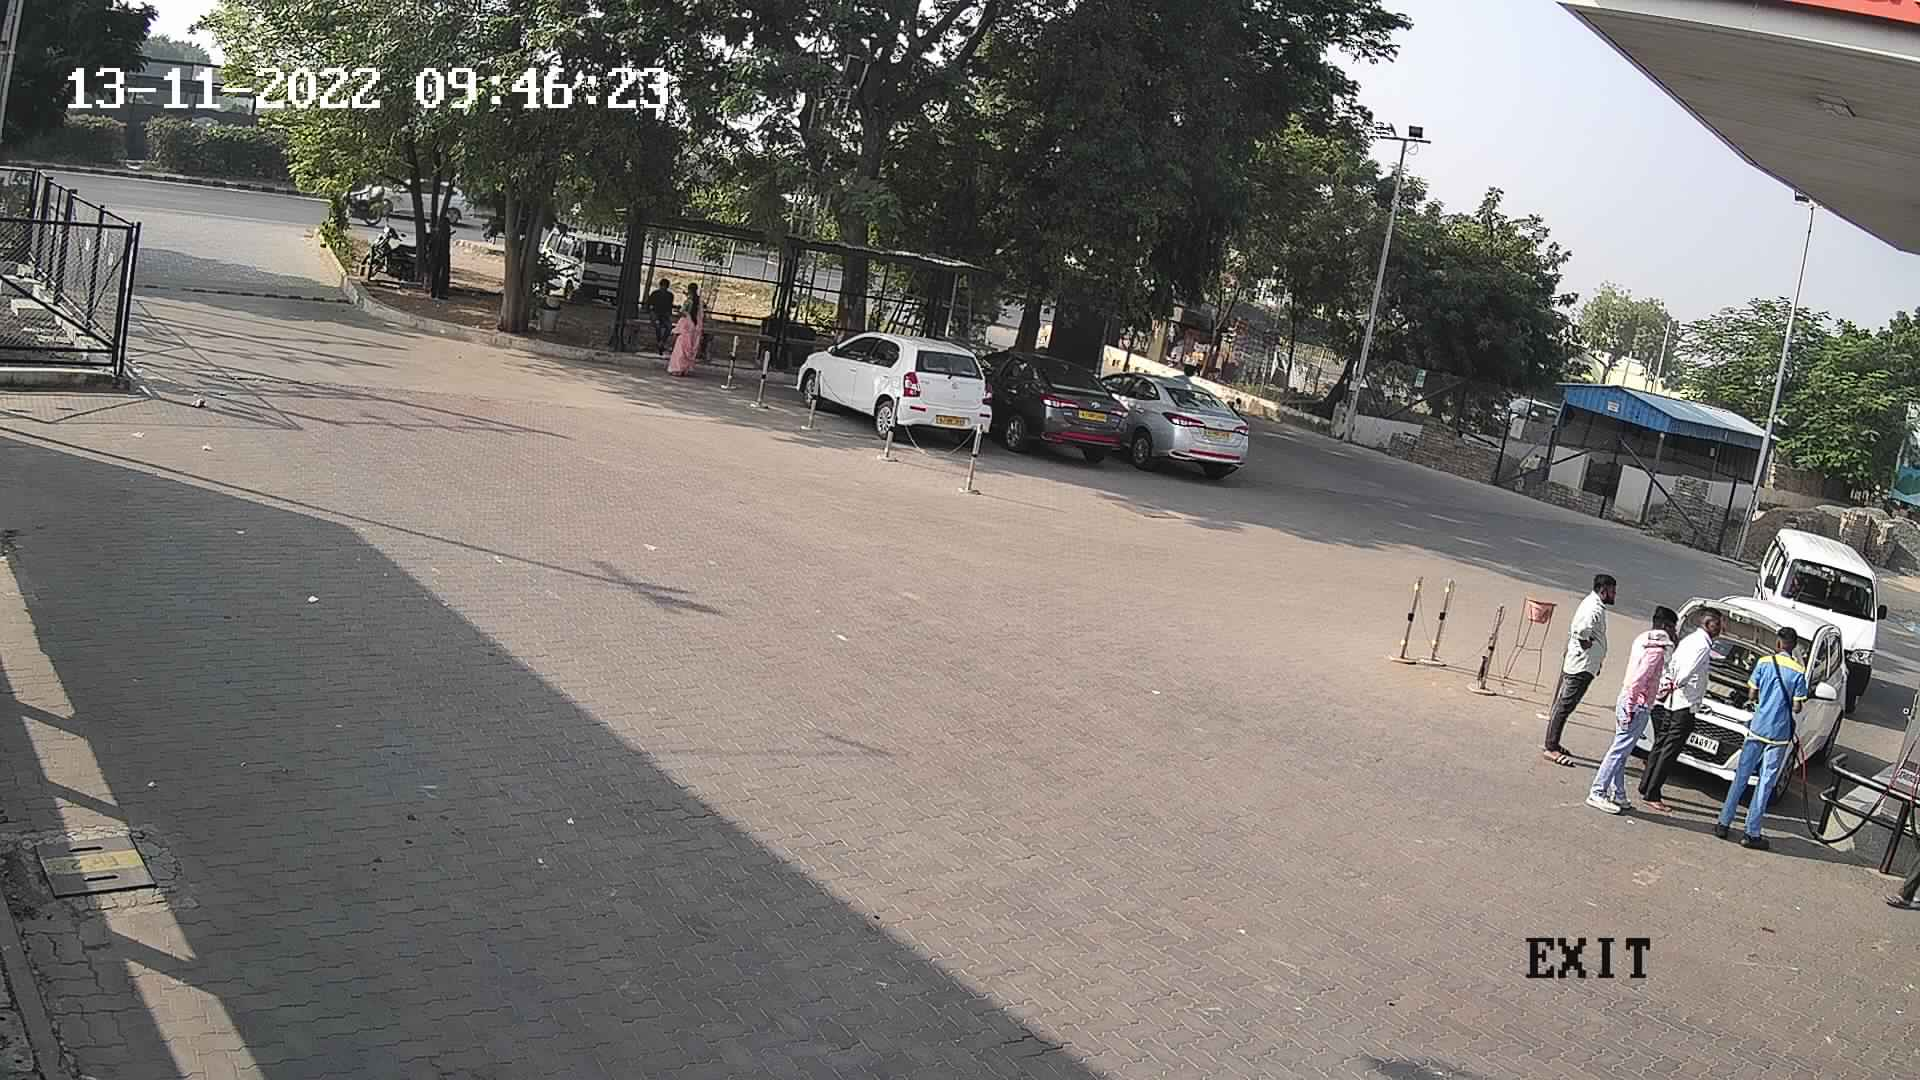Bike: (330, 164, 398, 233), (357, 220, 426, 287)
Car: (1619, 580, 1862, 807), (1705, 514, 1900, 687), (789, 316, 1006, 448), (967, 339, 1141, 476), (1087, 363, 1255, 493), (539, 208, 637, 305), (384, 165, 472, 233)
Others: (1700, 622, 1818, 857)
